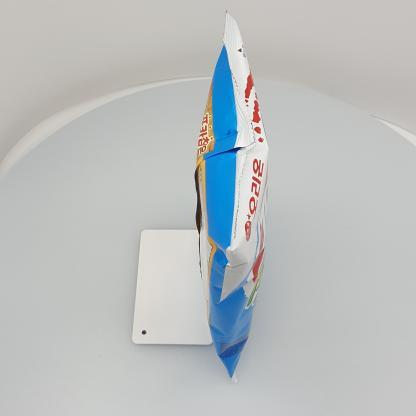Plastic Packaging: (187, 25, 269, 380)
